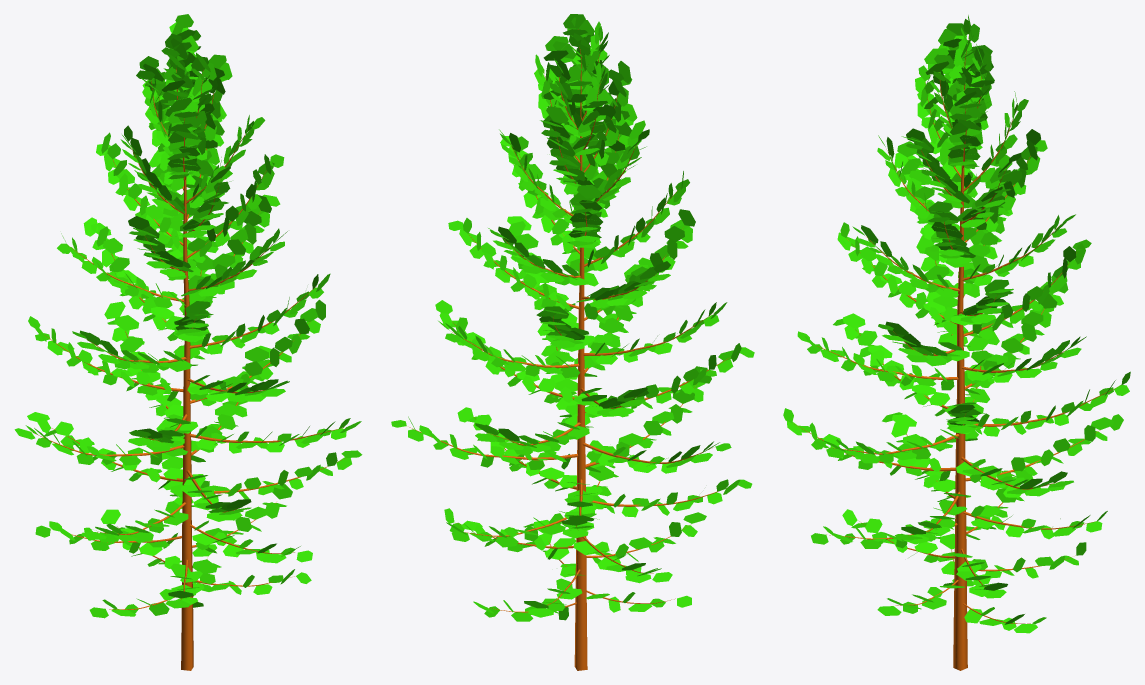
The model's file is treev1.fbx.
3 renders of one model, left to right at view 1: azimuth 30°, elevation 25°; view 2: azimuth 150°, elevation 25°; view 3: azimuth 270°, elevation 25°, orthographic.
Visible parts, largest first — view 1: leaves, tree; view 2: leaves, tree; view 3: leaves, tree.
Boxes of the visible parts, x1=… form: leaves: x1=14, y1=14, x2=362, y2=618; tree: x1=35, y1=68, x2=346, y2=670; leaves: x1=391, y1=14, x2=754, y2=621; tree: x1=409, y1=29, x2=730, y2=670; leaves: x1=783, y1=15, x2=1130, y2=633; tree: x1=794, y1=34, x2=1119, y2=670.
Size of the model in its own units: 867 by 1771 by 857.
